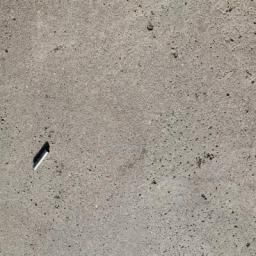FOD: (32, 140, 53, 174)
